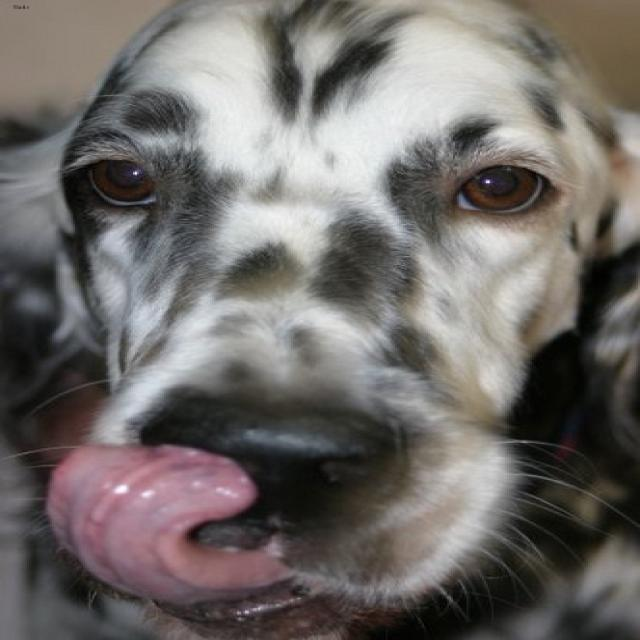dog-english_setter: (2, 1, 636, 637)
